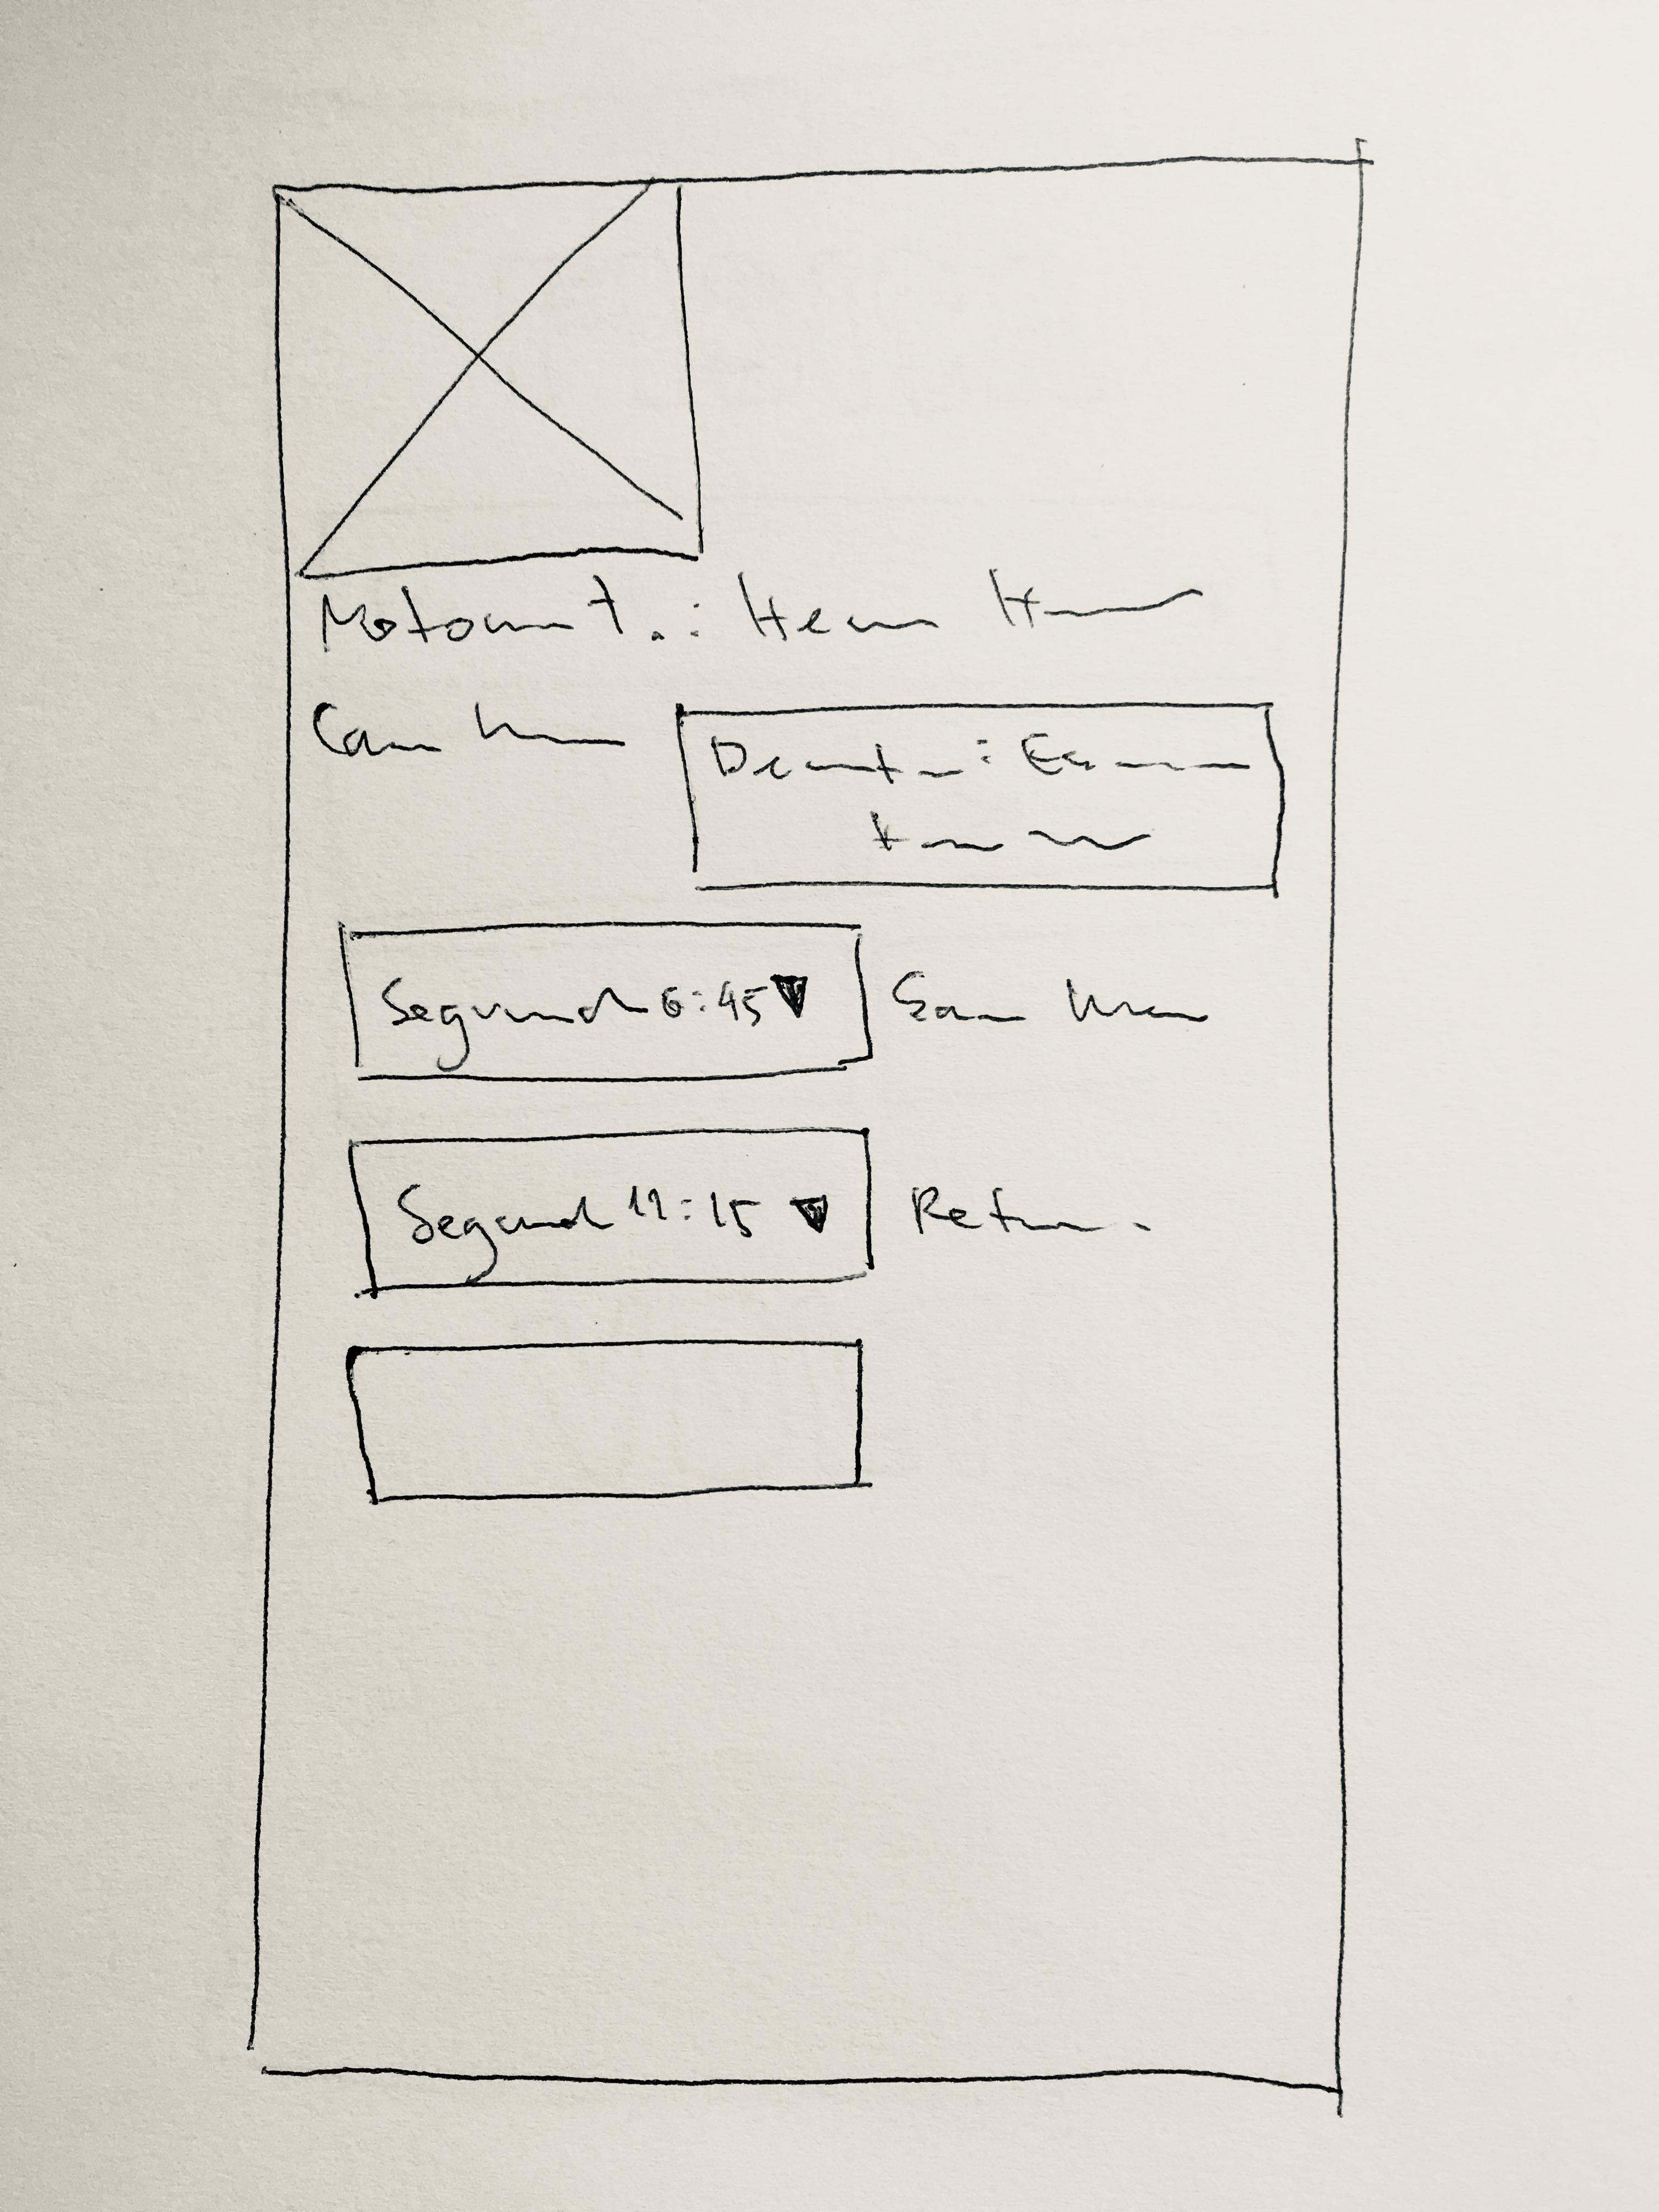Button: (674, 700, 1286, 892)
Image: (273, 179, 703, 580)
Label: (319, 566, 1207, 656), (309, 703, 625, 759), (892, 971, 1211, 1024), (913, 1183, 1154, 1237)
ListPicker: (349, 1125, 873, 1294), (337, 918, 872, 1081)
Screen: (246, 157, 1364, 2101)
TextBox: (345, 1341, 861, 1506)
